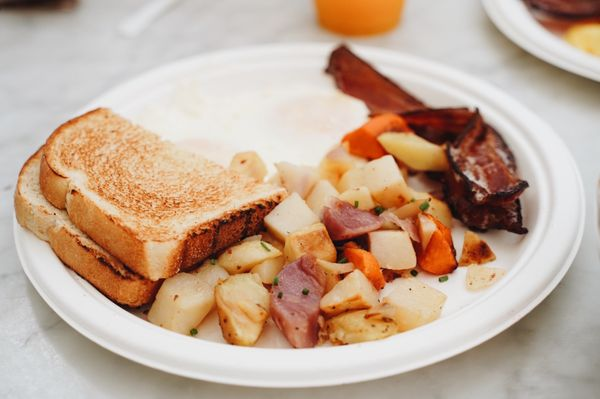pizza: (315, 1, 405, 37)
soup: (13, 106, 290, 309)
sushi: (482, 0, 600, 85)
